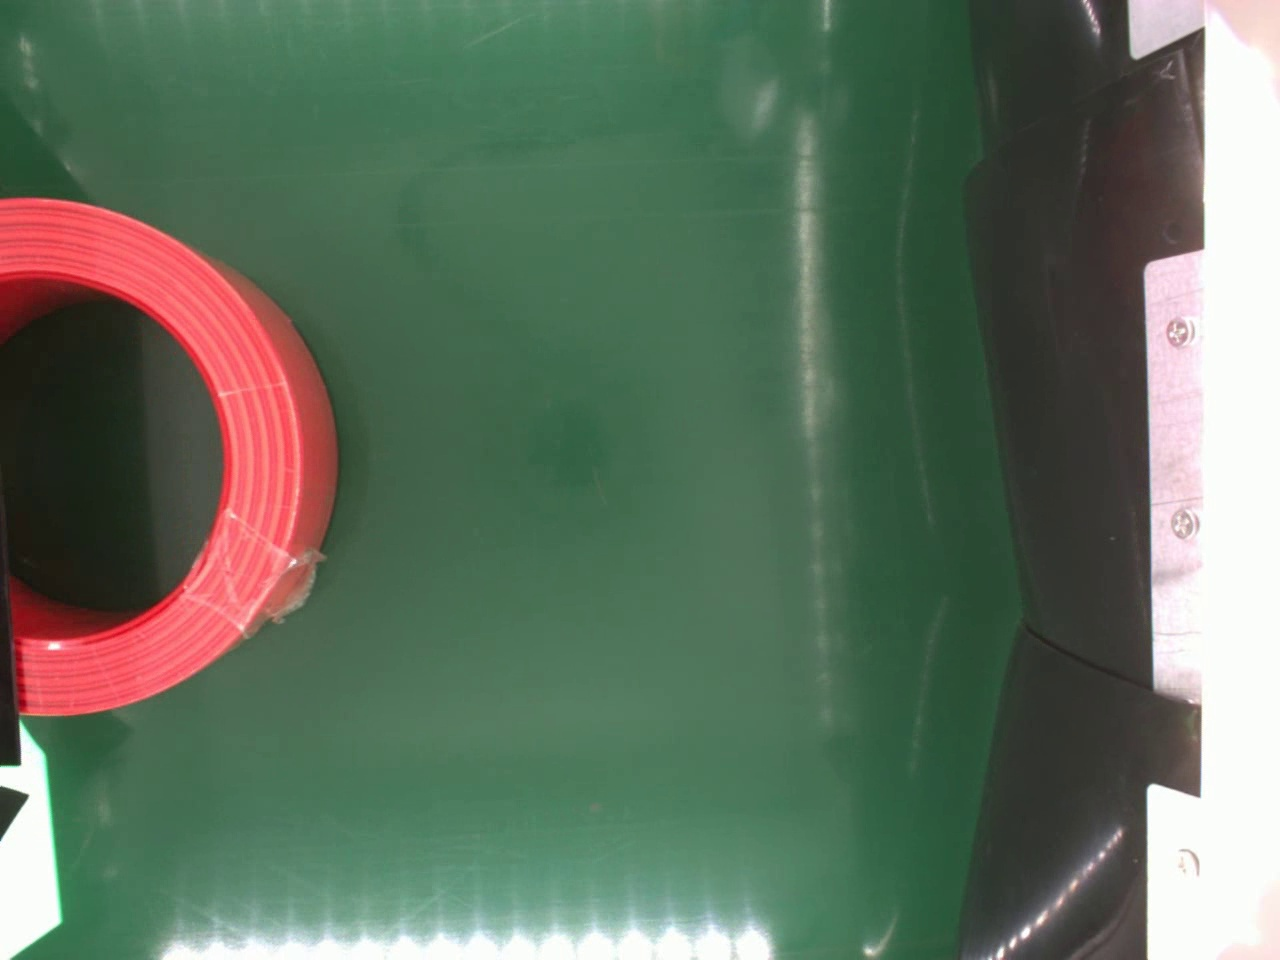red: (0, 195, 343, 718)
